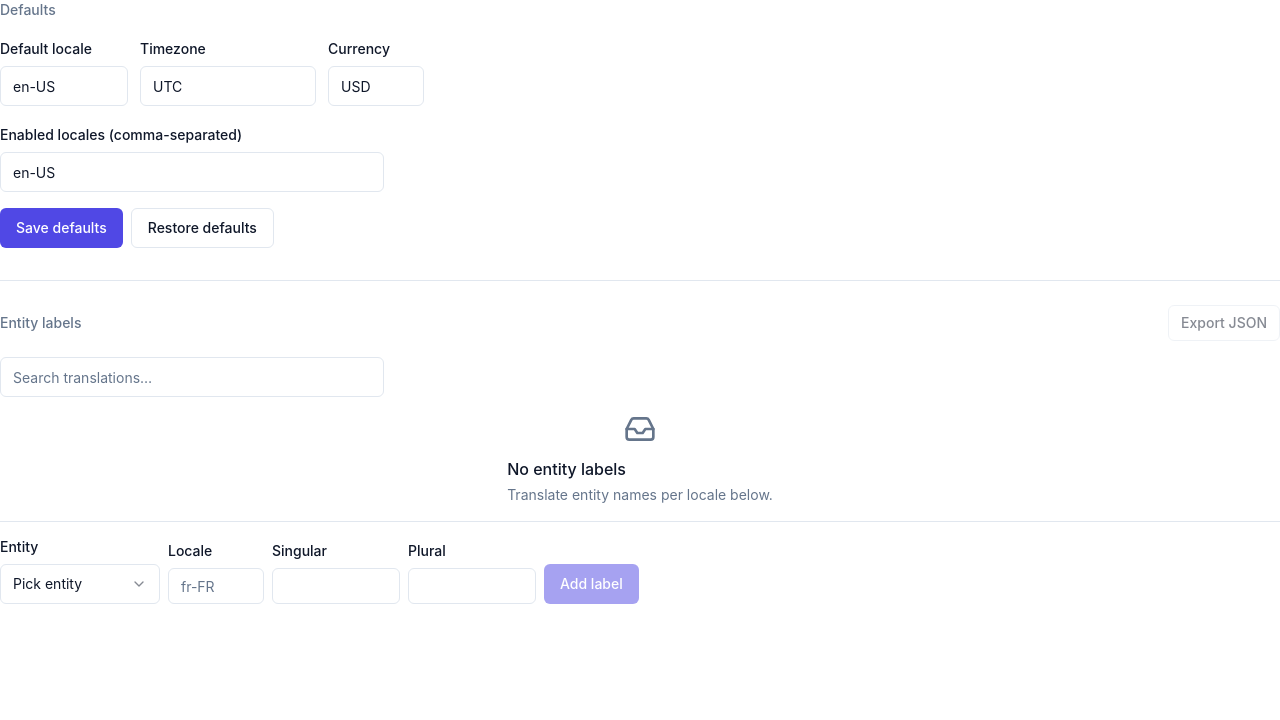
it: LocalizationSettings › restores locale defaults after confirmation
Type "JPY" into the field labelled "Currency" at (376, 86), box [328,66,424,106]
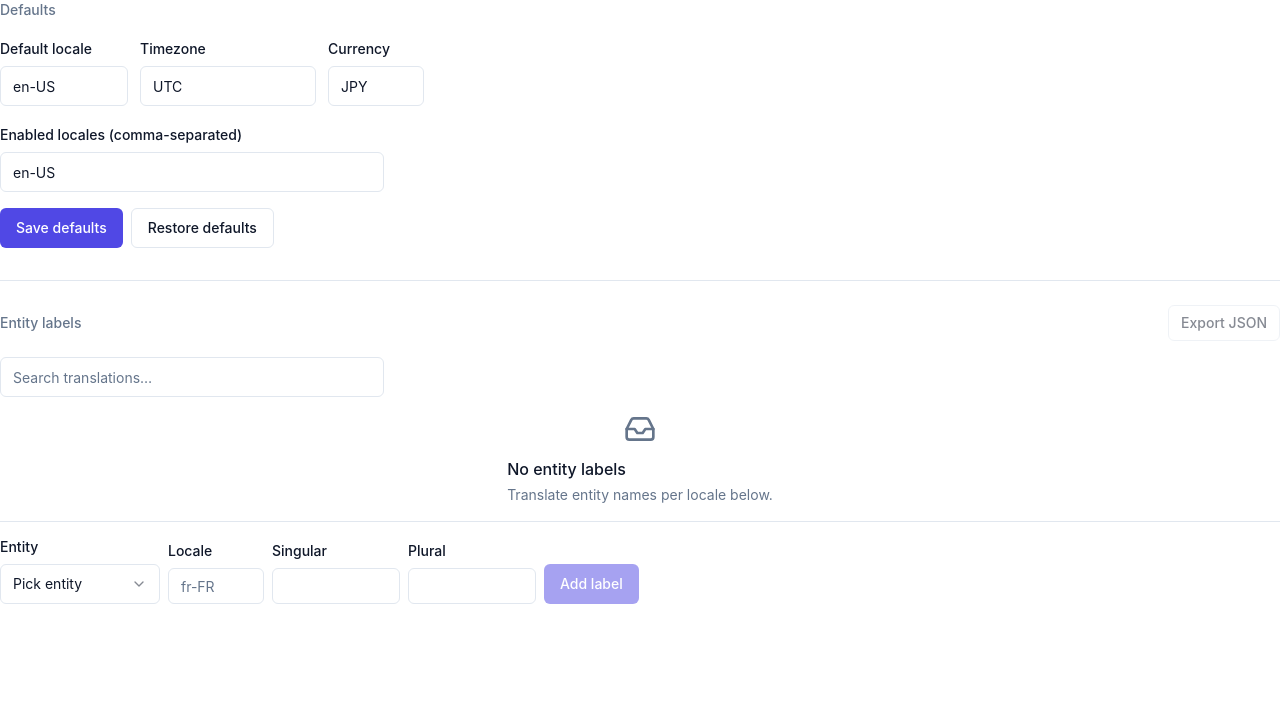
Click the button "Restore defaults" at (202, 228), box [131,208,274,248]
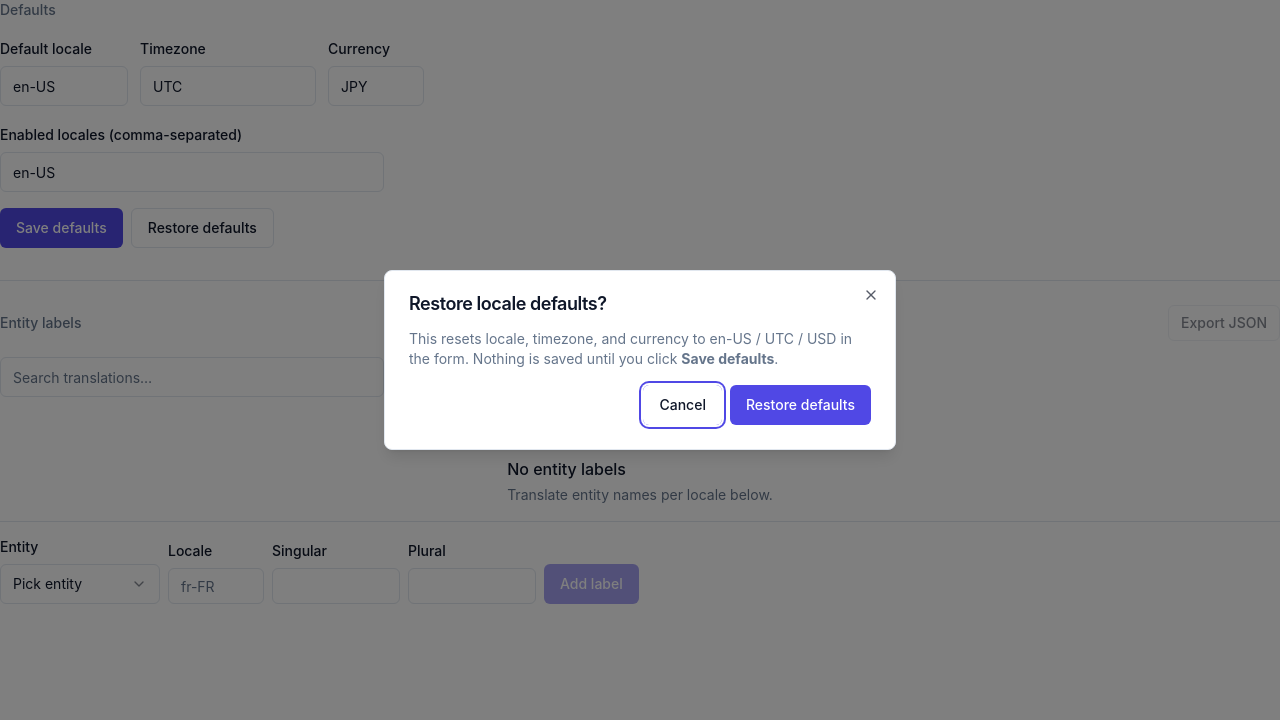
Click the button "Restore defaults" at (800, 405), box [730,385,871,425]
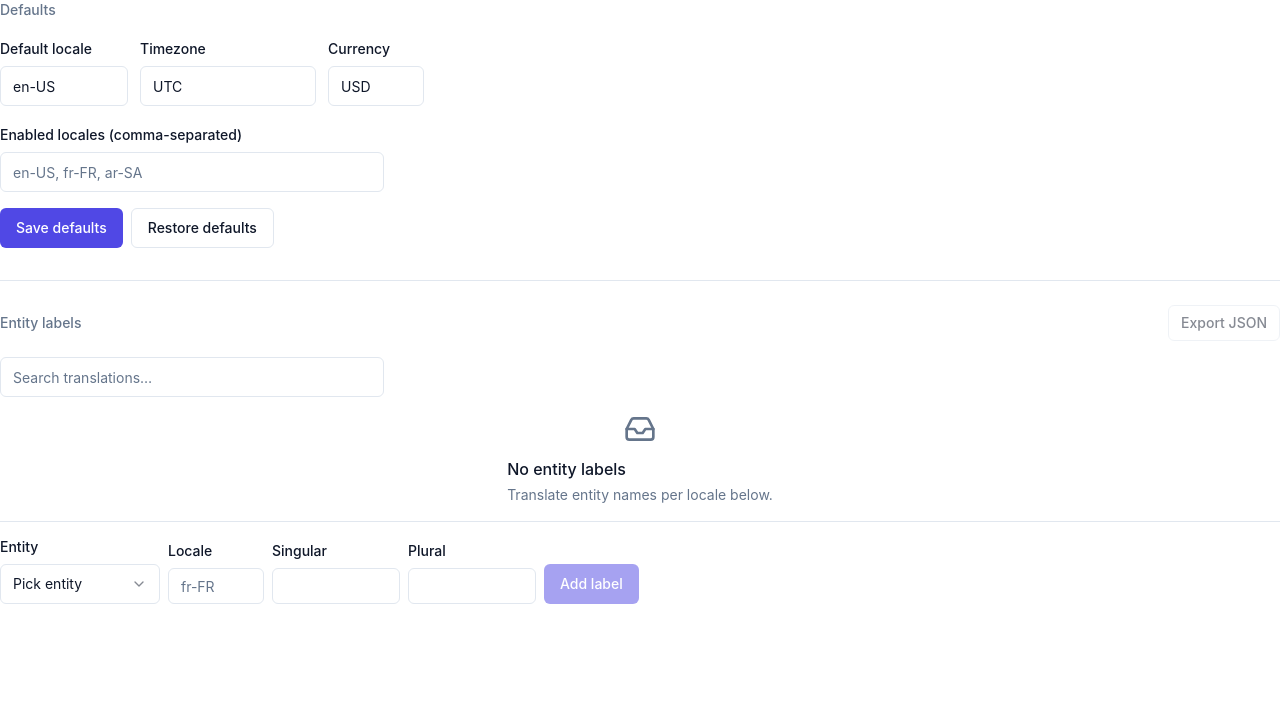
Expected: the field labelled "Currency" holds "USD", [328,66,424,106]
